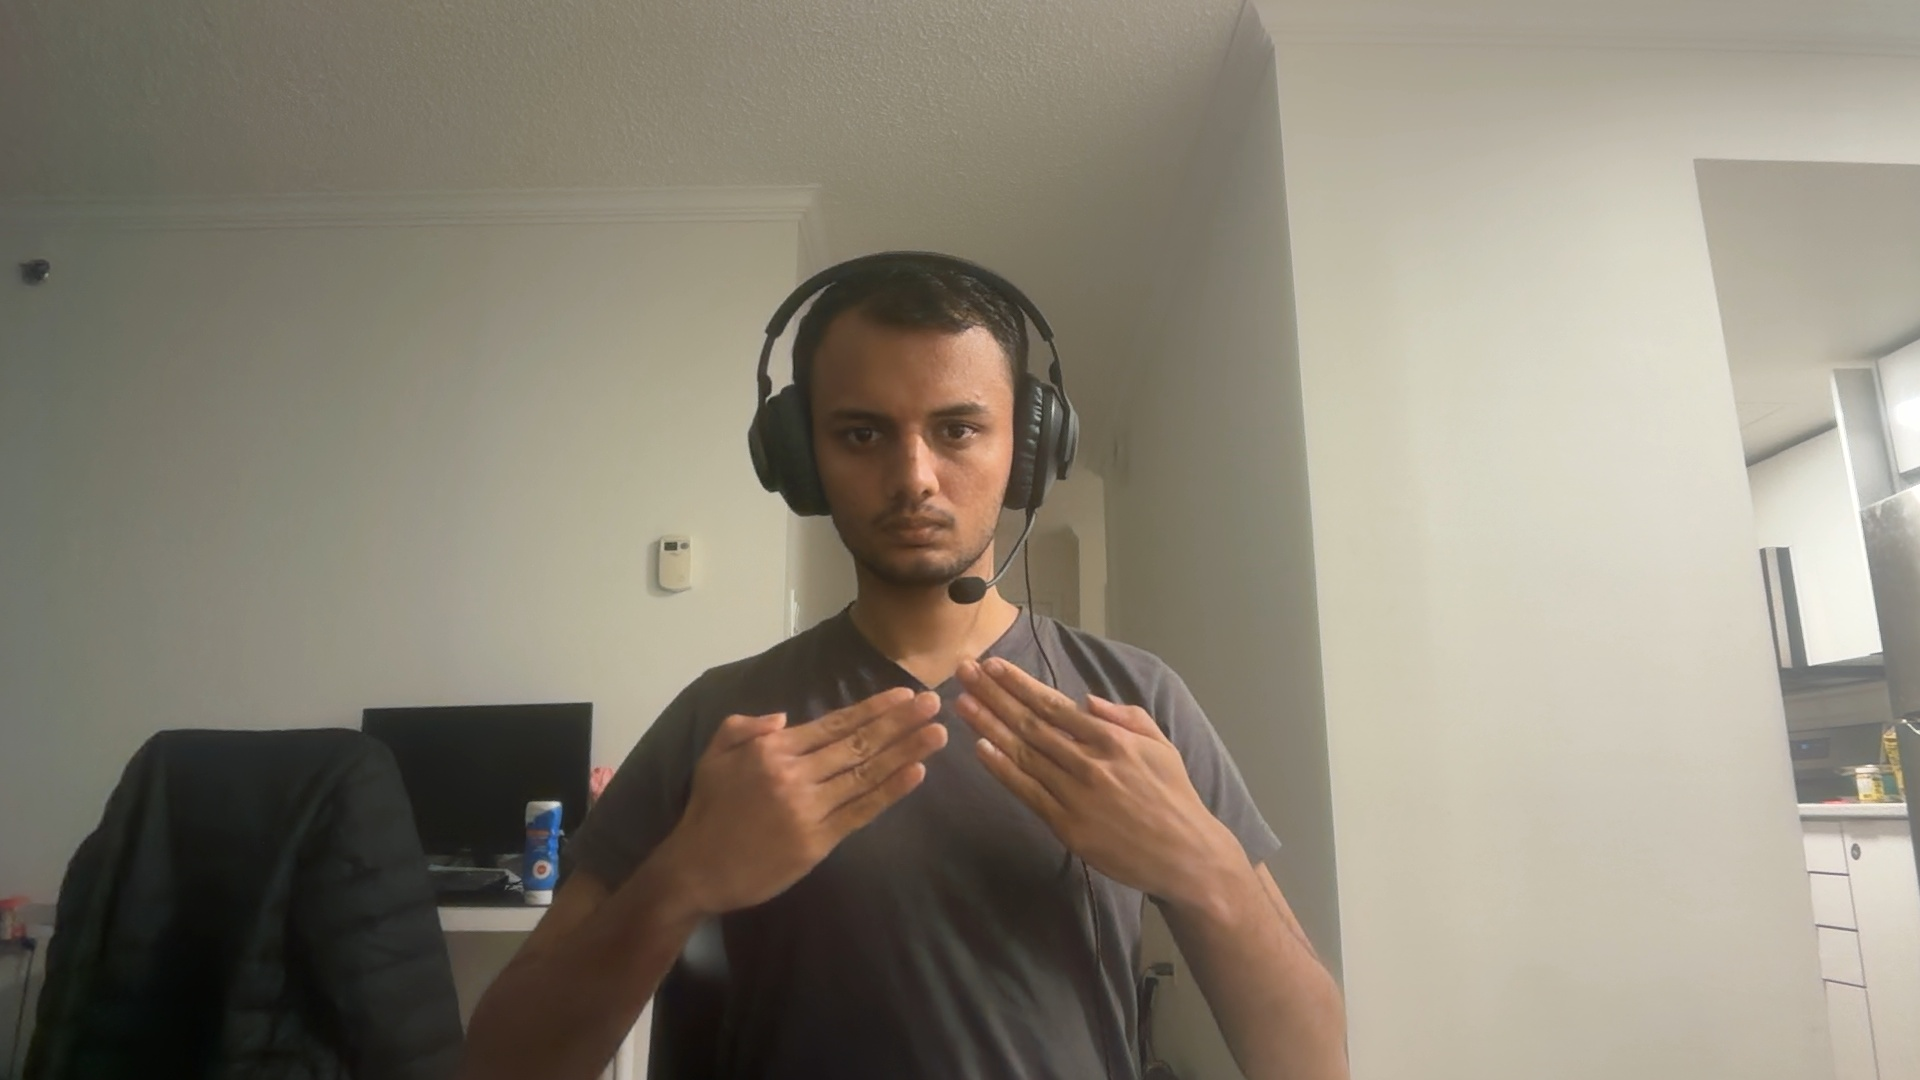thankyou: (678, 658, 1222, 915)
